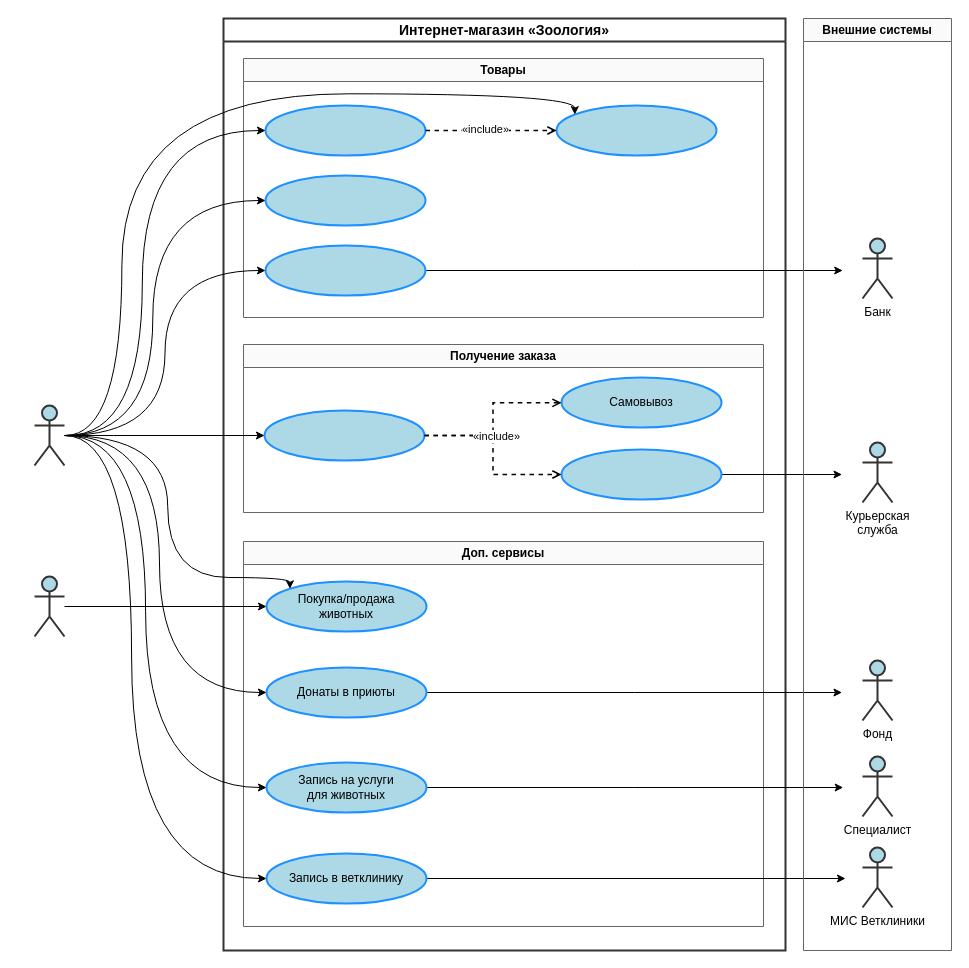
Some shapes in this 969 by 968 pixel diagram are drawn without their labels. Here are the shapes that lost their labels. From the top down, the centre of each, then its label:
the point at 345,130: Просмотр каталога товаров
the point at 636,130: Поиск товаров
the point at 345,200: Добавление в избранное
the point at 345,270: Оплата товаров онлайн
the point at 49,435: Покупатель
the point at 344,435: Получение товара
the point at 641,474: Доставка
the point at 49,606: Заводчик
